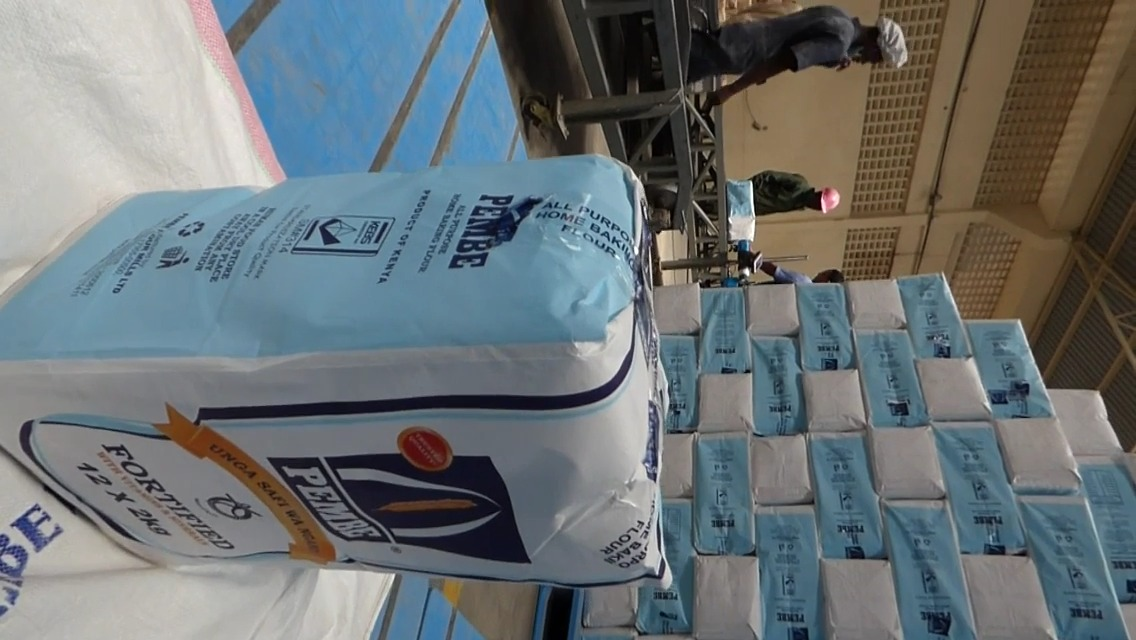wheat_flour_blue_label: (0, 156, 675, 581)
